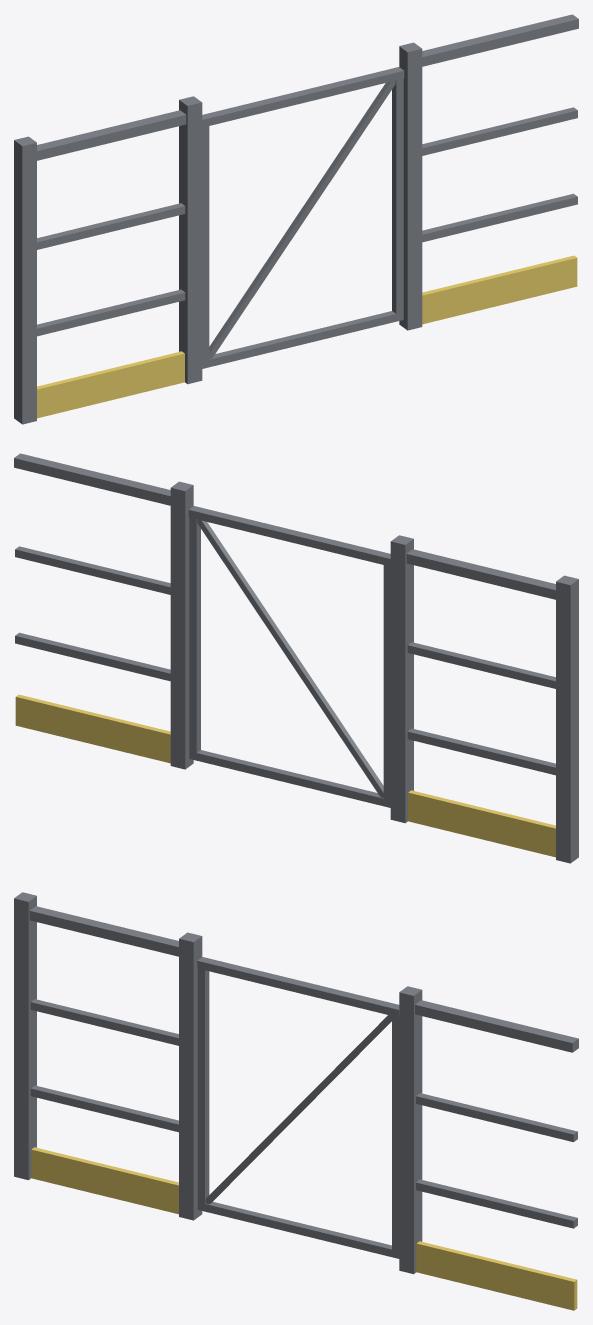
The model's file is fence_gate.glb.
3 views of the same model, one above another, from view 1: azimuth 30°, elevation 25°; view 2: azimuth 150°, elevation 25°; view 3: azimuth 330°, elevation 25° (orthographic).
Visible parts, largest first — view 1: fence_gate, leaf; view 2: fence_gate, leaf; view 3: fence_gate, leaf.
Part boxes in pixels (x1,y1,x2,y2): fence_gate: (14, 14, 578, 424); leaf: (202, 67, 404, 368); fence_gate: (14, 453, 578, 863); leaf: (188, 506, 390, 807); fence_gate: (14, 892, 578, 1310); leaf: (197, 957, 399, 1258).
Bounding box in the file's own units: 3.04 × 1.45 × 0.08.
